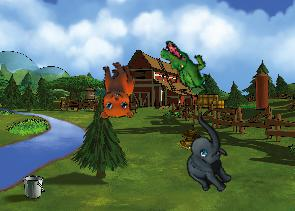bear: (88, 58, 141, 124)
crocodile: (151, 38, 220, 95)
elephant: (163, 112, 252, 200)
